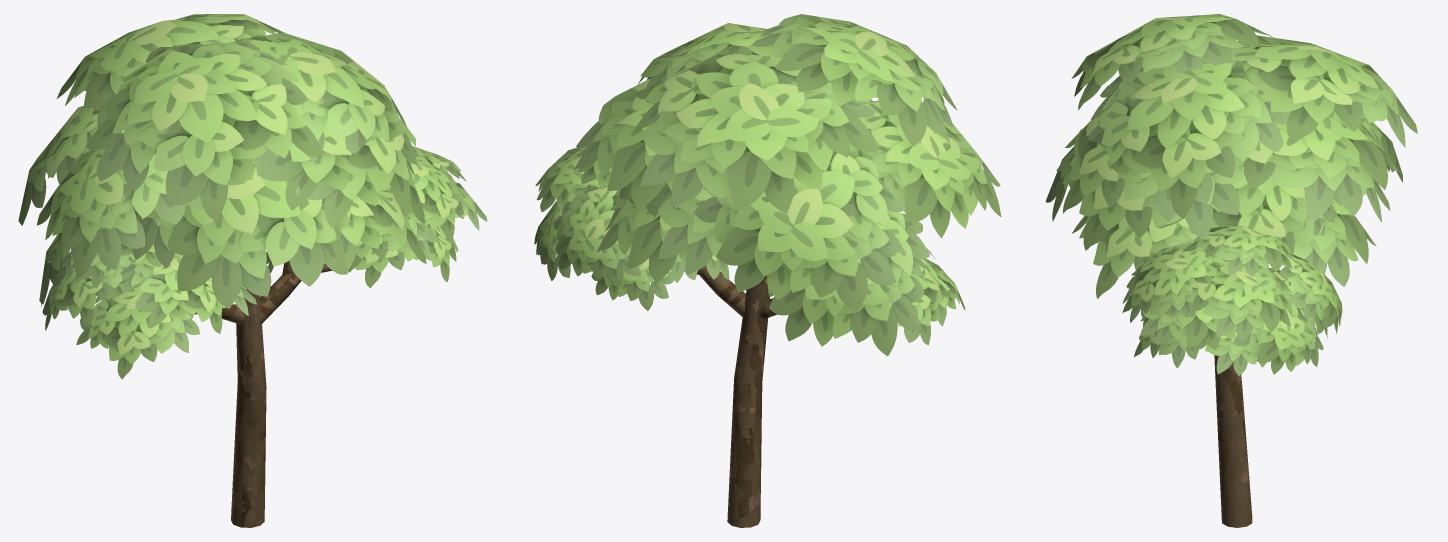
Rendered from tree_7.glb.
The picture shows the model from 3 angles, left to right: view 1: azimuth 30°, elevation 25°; view 2: azimuth 150°, elevation 25°; view 3: azimuth 270°, elevation 25°; orthographic projection. The views are drawn at different scales.
Visible parts, largest first — view 1: Tree_7; view 2: Tree_7; view 3: Tree_7.
Boxes of the visible parts, x1,y1,x2,y2 form: Tree_7: (18, 14, 487, 527); Tree_7: (534, 14, 1001, 527); Tree_7: (1045, 14, 1417, 527).
Bounding box in the file's own units: 5.55 × 5.86 × 4.47.
Materials: 2 (2 with a texture image).
